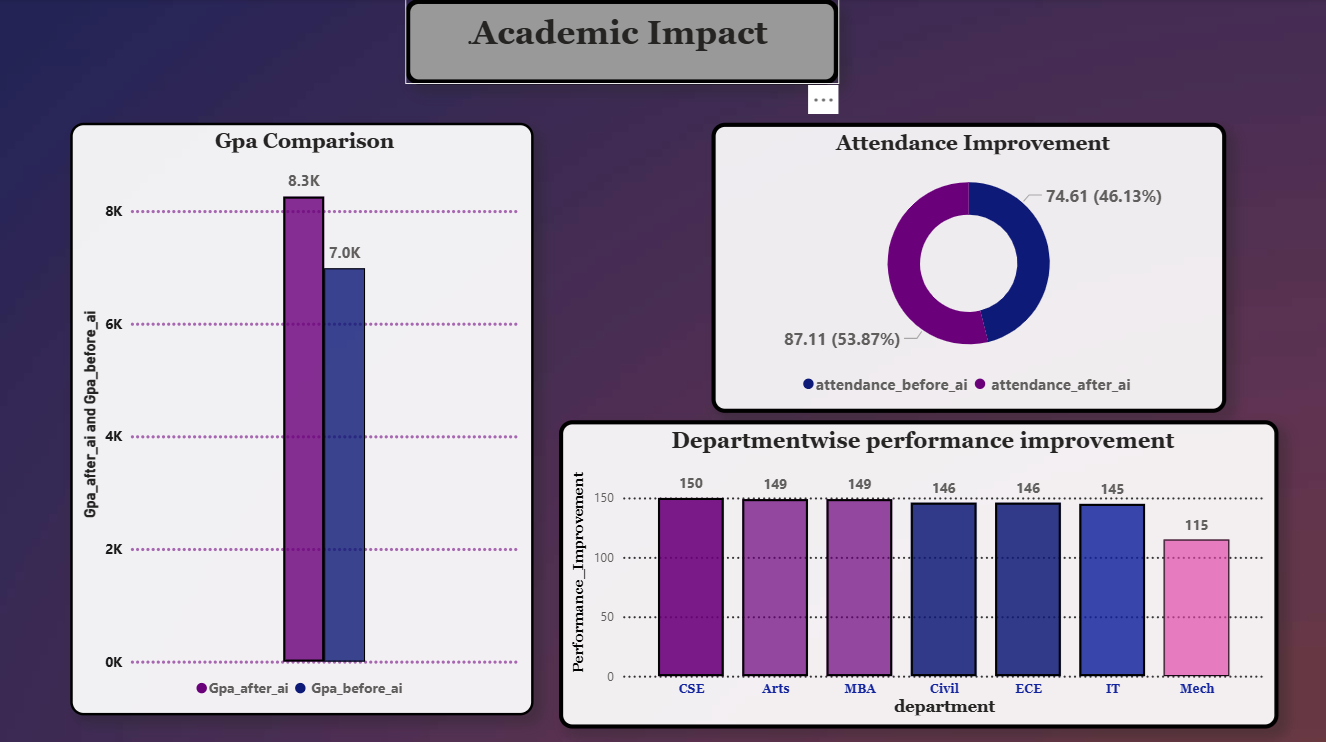

The page's visual inventory and layout, read from the dashboard file:
{"tool":"powerbi","page":{"name":"Academic_impact","canvas":[1280,720],"ordinal":1},"visuals":[{"type":"textbox","box":[392.5,0,418.5,82.3],"z":0},{"type":"clusteredColumnChart","title":"Gpa Comparison","fields":{"Y":["Sum(performance.gpa_after_ai)","Sum(performance.gpa_before_ai)"]},"box":[68.6,119.4,447.3,572.2],"z":1000},{"type":"donutChart","title":"Attendance Improvement","fields":{"Y":["Avg(performance.attendance_before_ai)","Avg(performance.attendance_after_ai)"]},"box":[687.5,119.4,496.7,279.9],"z":2000},{"type":"clusteredColumnChart","title":"Departmentwise performance improvement","fields":{"Category":["students.department"],"Y":["CountNonNull(performance.Performance_improvement)"]},"box":[540.7,406.2,694.3,297.8],"z":3000}]}

Visuals, with their boxes in screenshot pixels (x1, y1, x2, y2), scaled from the page's 1280x720 canvas onto the 1326x748 screenshot:
textbox: <bbox>407, 0, 840, 86</bbox>
"Gpa Comparison" clusteredColumnChart: <bbox>71, 124, 534, 718</bbox>
"Attendance Improvement" donutChart: <bbox>712, 124, 1227, 415</bbox>
"Departmentwise performance improvement" clusteredColumnChart: <bbox>560, 422, 1279, 731</bbox>
